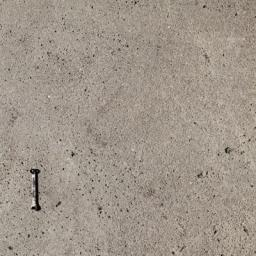FOD: (28, 165, 47, 216)
